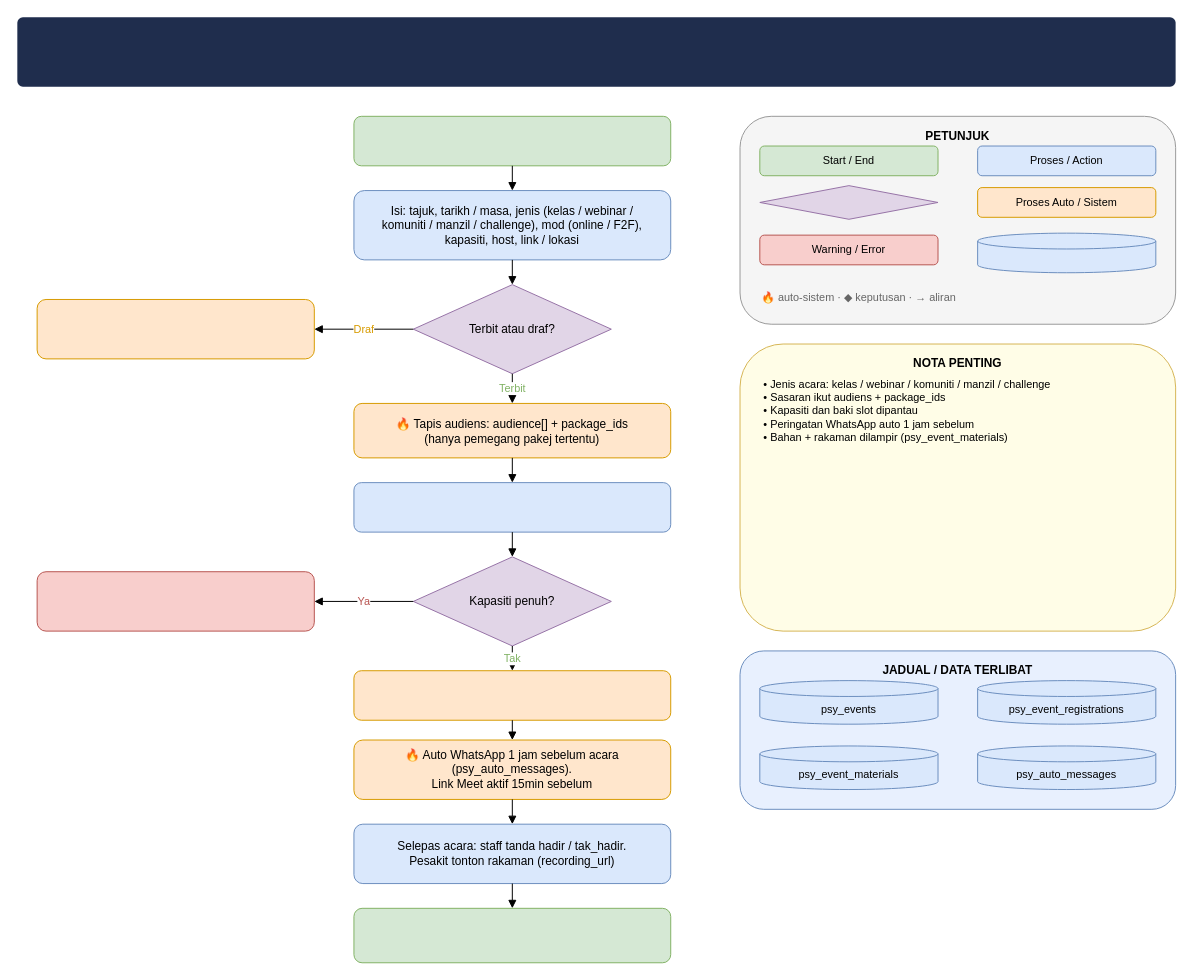
The diagram is 1193 pixels wide and 980 high, and some of its shapes have lost their labels. The centre of each missing label's shape, as x and y in pixels:
Database: pixel 1066 252
END Acara selesai (status=completed): pixel 512 935
FLOW: ACARA (EVENT) Staff cipta acara → pesakit daftar → tanda kehadiran: pixel 596 51
Keputusan / Decision: pixel 848 202
Pesakit buka events.html → tapis jenis → Daftar (1 klik): pixel 512 507
START Staff buka events.html → cipta acara: pixel 512 140
status=draft (simpan, belum papar): pixel 175 328
Tutup pendaftaran (slot penuh): pixel 175 601
🔥 psy_event_registrations (status=registered): pixel 512 695
